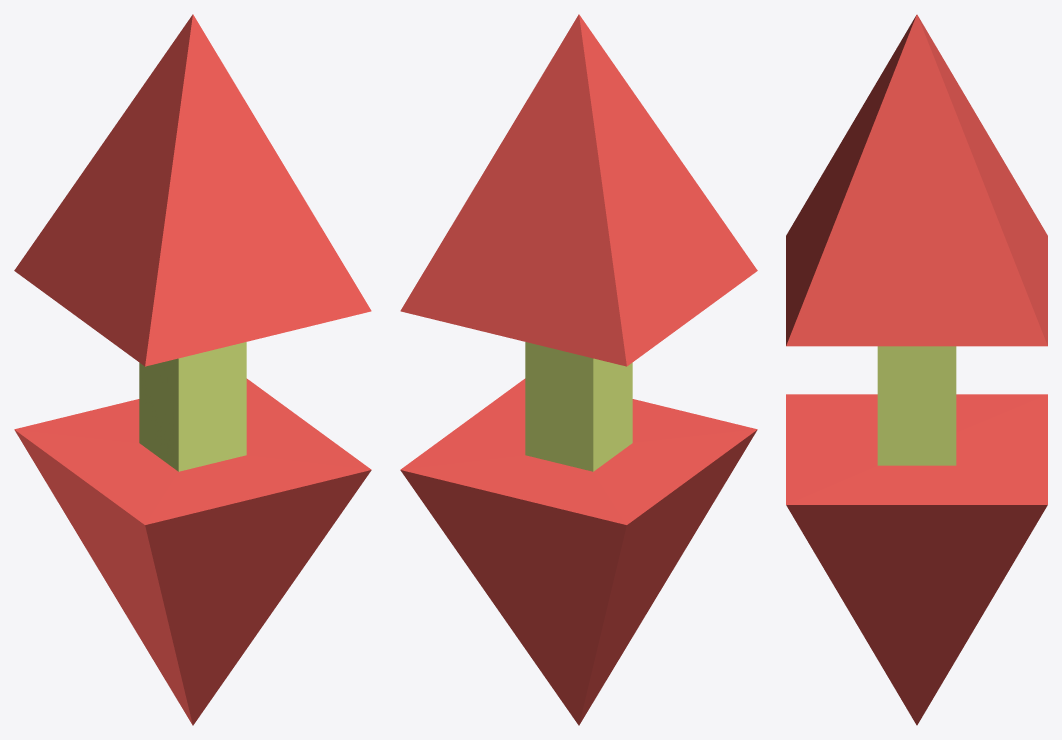
File: enemy_Arm.obj
The picture shows the model from 3 angles, left to right: view 1: azimuth 30°, elevation 25°; view 2: azimuth 150°, elevation 25°; view 3: azimuth 270°, elevation 25°; orthographic projection.
Visible parts, largest first — view 1: 立方体.001; view 2: 立方体.001; view 3: 立方体.001.
Boxes of the visible parts, box(x1,y1,x2,y2) form: 立方体.001: box(14, 14, 371, 725); 立方体.001: box(400, 14, 757, 725); 立方体.001: box(786, 14, 1047, 725).
Size of the model in its own units: 1.2 by 3.6 by 1.2.
1 material, 1 textured.
